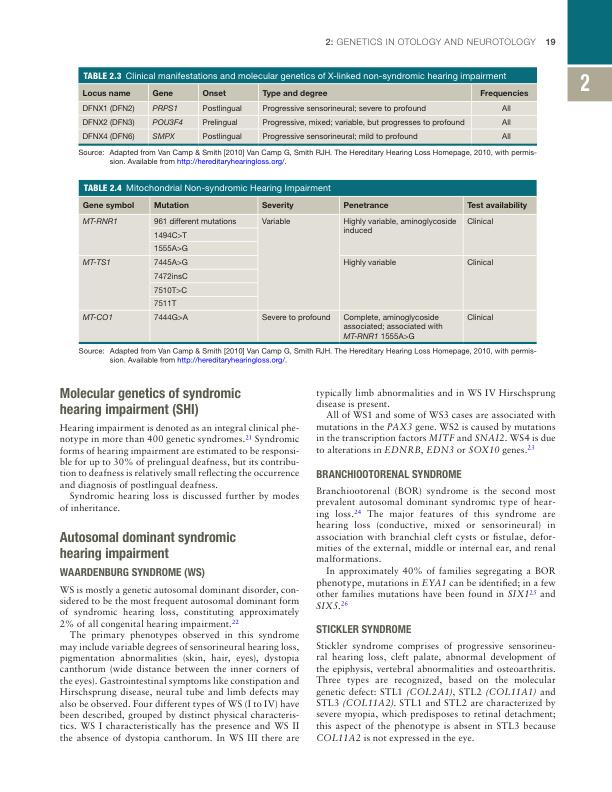caption: (81, 70, 507, 82), (82, 183, 332, 194)
header: (324, 37, 536, 46)
section-heading: (58, 386, 242, 418), (58, 529, 237, 561)
sub-section-heading: (58, 566, 206, 580), (315, 469, 463, 480), (315, 624, 412, 634)
table: (79, 196, 537, 365), (79, 83, 537, 166)
text: (58, 584, 300, 744), (315, 485, 556, 611), (316, 641, 557, 744), (59, 422, 301, 513), (315, 388, 556, 456)
